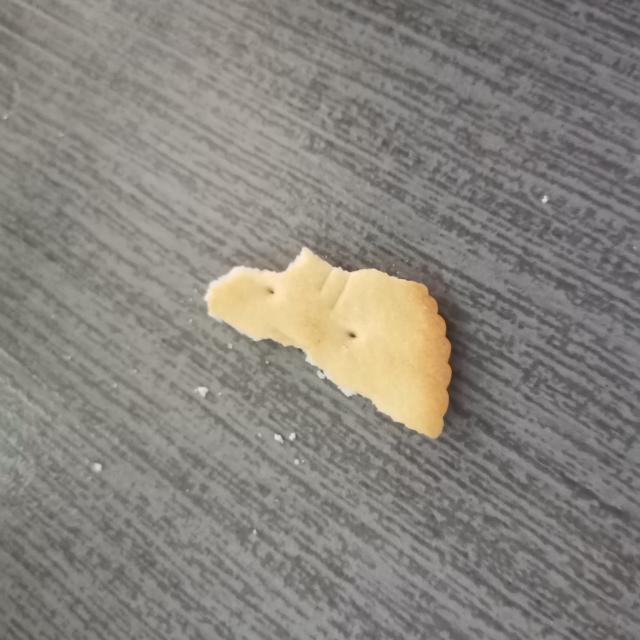Broken: (204, 245, 452, 439)
